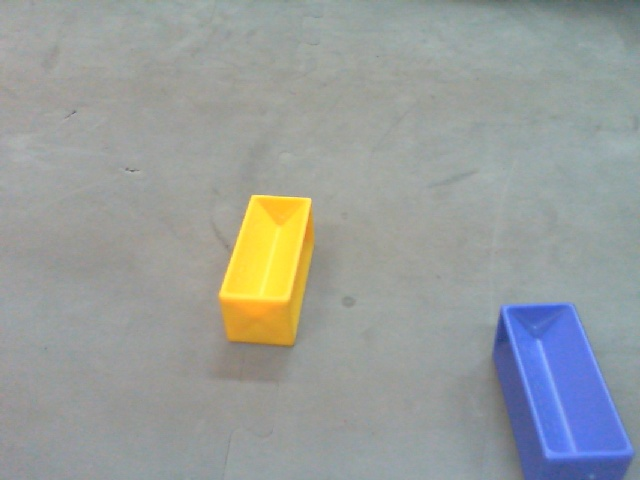BlueSample: (488, 300, 636, 480)
YellowSample: (215, 193, 317, 351)
